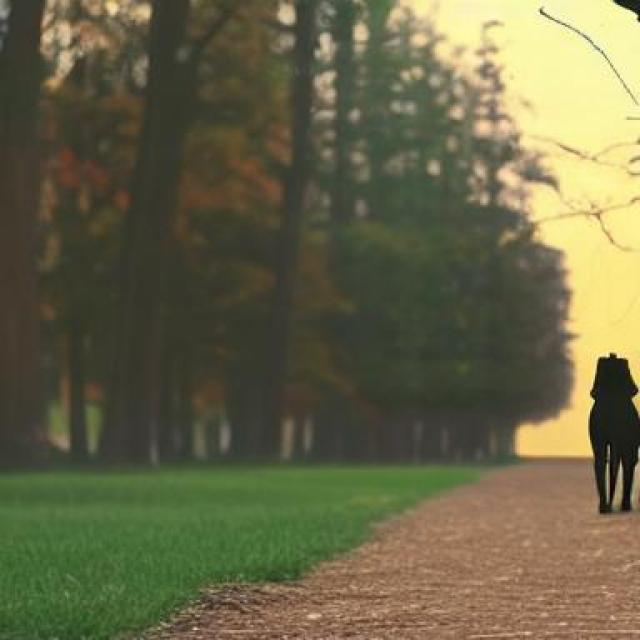Dog: (587, 351, 640, 514)
